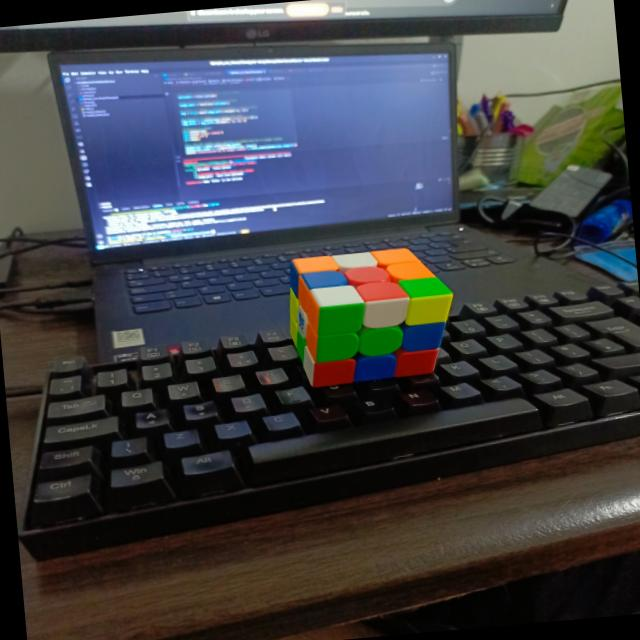rubik: (281, 241, 461, 389)
